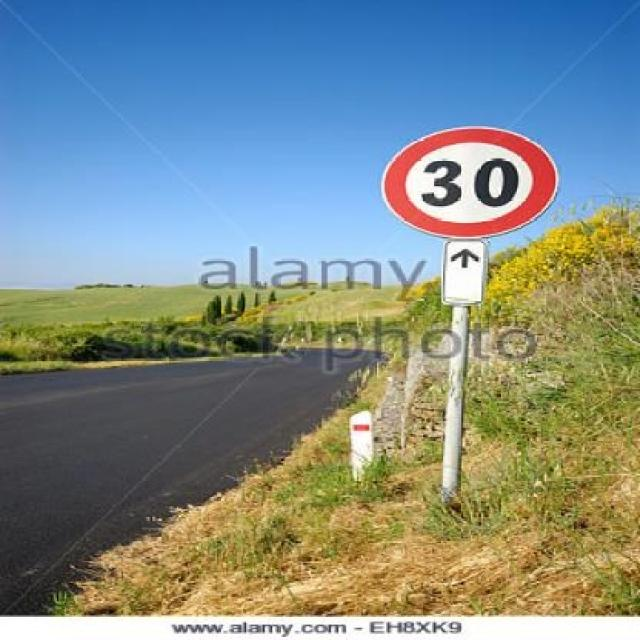forb_speed_over_30: (380, 124, 563, 241)
